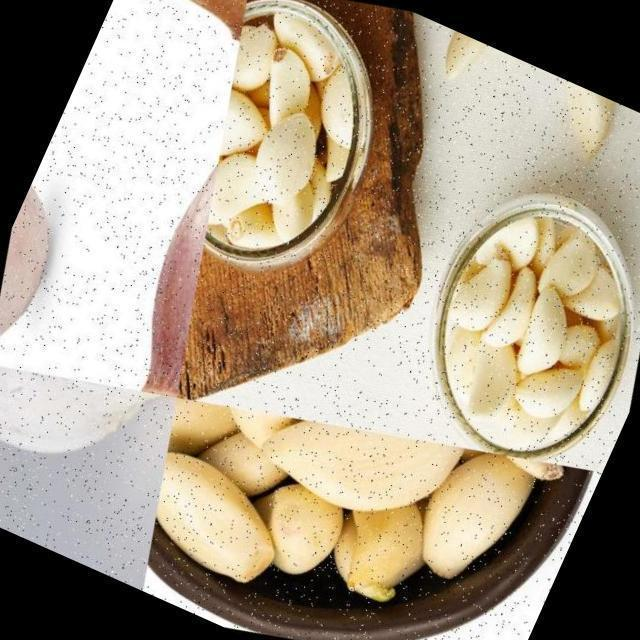garlic: (380, 162, 640, 494), (148, 0, 432, 299), (235, 368, 488, 575), (376, 416, 574, 622), (119, 420, 317, 620), (0, 323, 193, 518), (527, 76, 632, 176), (424, 25, 537, 113), (154, 385, 249, 480)
